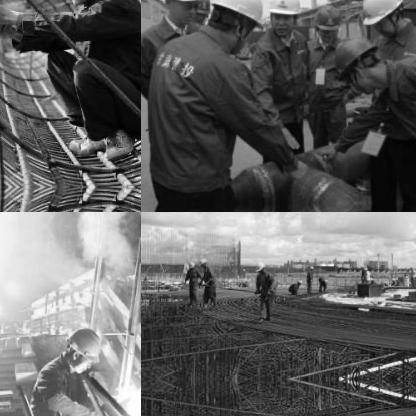Helmet: (330, 34, 386, 88), (208, 0, 260, 44), (63, 320, 105, 364), (363, 0, 410, 38), (266, 0, 302, 34), (159, 0, 206, 25), (312, 2, 340, 42), (253, 258, 265, 272), (196, 253, 208, 267), (186, 258, 194, 270)
